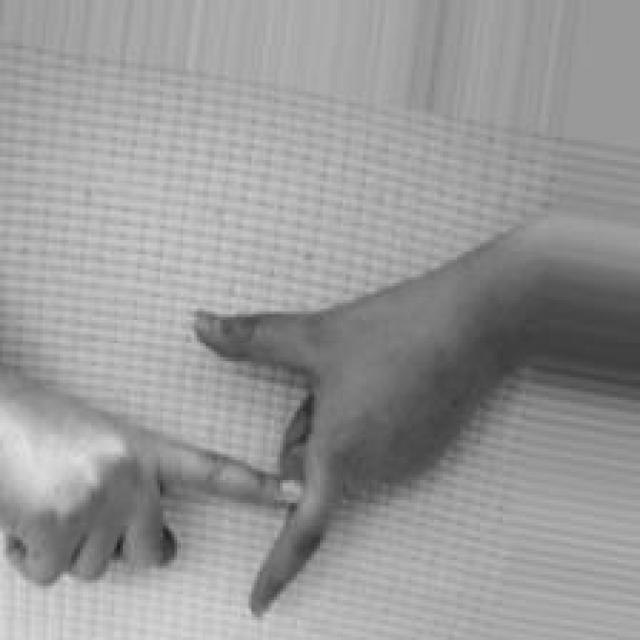F: (0, 290, 495, 620)
